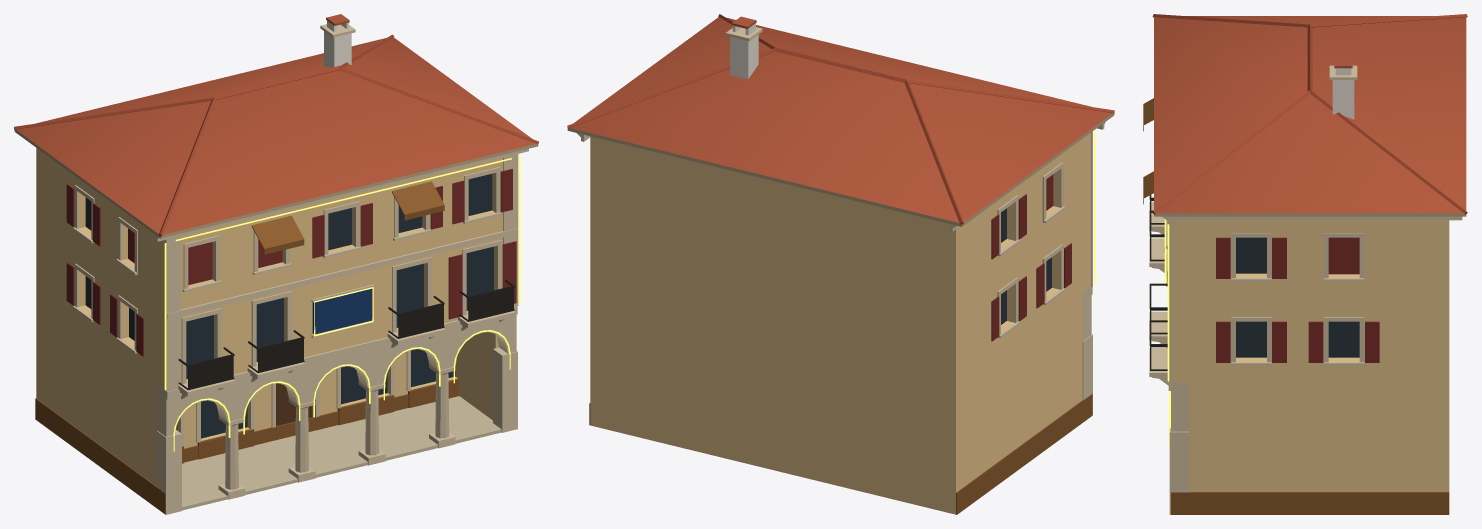
The picture shows the model from 3 angles, left to right: view 1: azimuth 30°, elevation 25°; view 2: azimuth 150°, elevation 25°; view 3: azimuth 270°, elevation 25°; orthographic projection. The views are drawn at different scales.
Visible parts, largest first — view 1: agents.lod1; view 2: agents.lod1; view 3: agents.lod1.
Boxes of the visible parts, box(x1,y1,x2,y2) form: agents.lod1: box(14, 14, 538, 514); agents.lod1: box(567, 14, 1114, 514); agents.lod1: box(1143, 14, 1467, 514).
Bounding box in the file's own units: 15.2 × 14.31 × 10.5.
